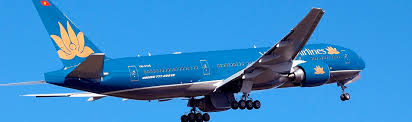maybay_dansu: (17, 1, 376, 113)
